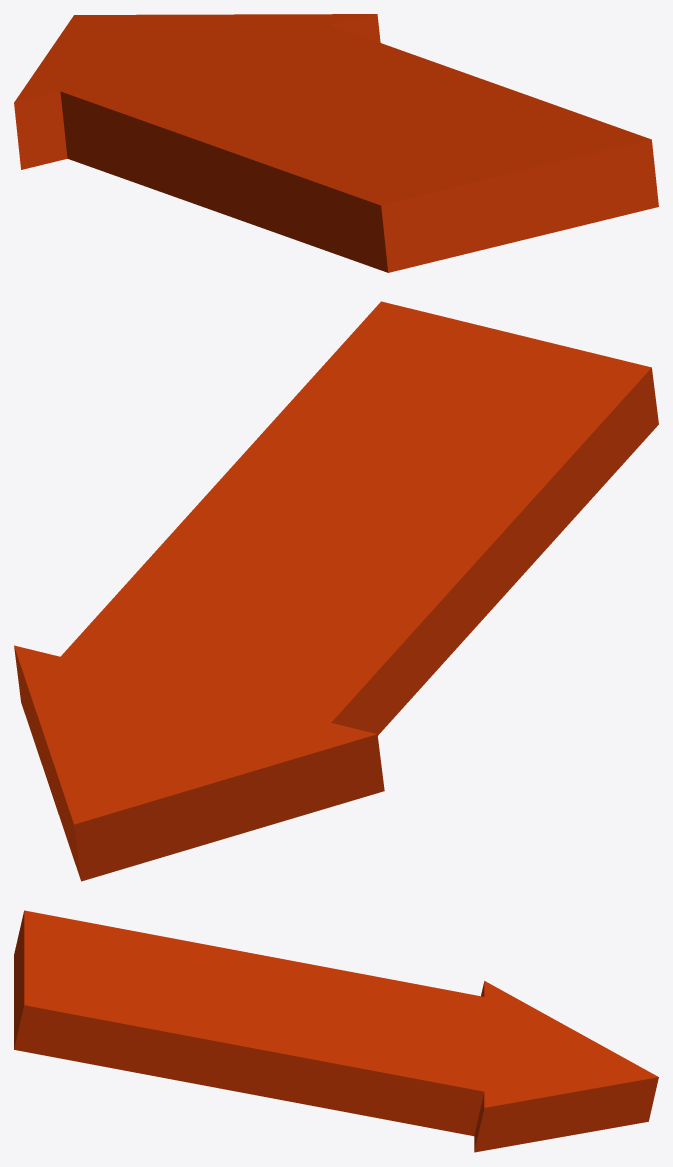
File: flecha.obj
3 views of the same model, one above another, from view 1: azimuth 30°, elevation 25°; view 2: azimuth 150°, elevation 25°; view 3: azimuth 270°, elevation 25° (orthographic). The views are drawn at different scales.
Visible parts, largest first — view 1: Cube.001; view 2: Cube.001; view 3: Cube.001.
Part boxes in pixels (box(x1,y1,x2,y2)): Cube.001: box(14, 14, 658, 272); Cube.001: box(14, 301, 658, 881); Cube.001: box(14, 910, 658, 1152).
Bounding box in the file's own units: 1.52 × 0.9134 × 3.26.
